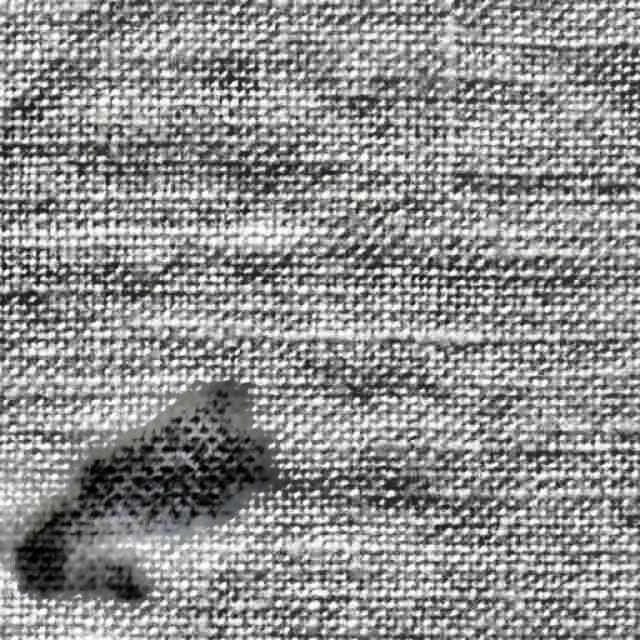Hole: (0, 352, 308, 624)
